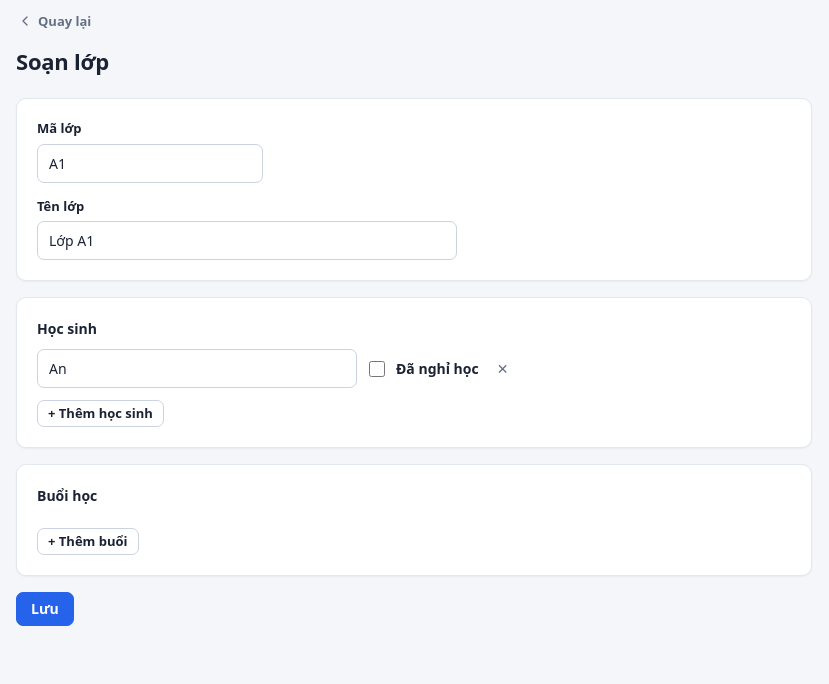
it: ClassEditor › thêm buổi học tạo ô ngày + chọn giờ mới
Step 1. Click the button "+ Thêm buổi" → (88, 542), box x1=37 y1=528 x2=138 y2=555
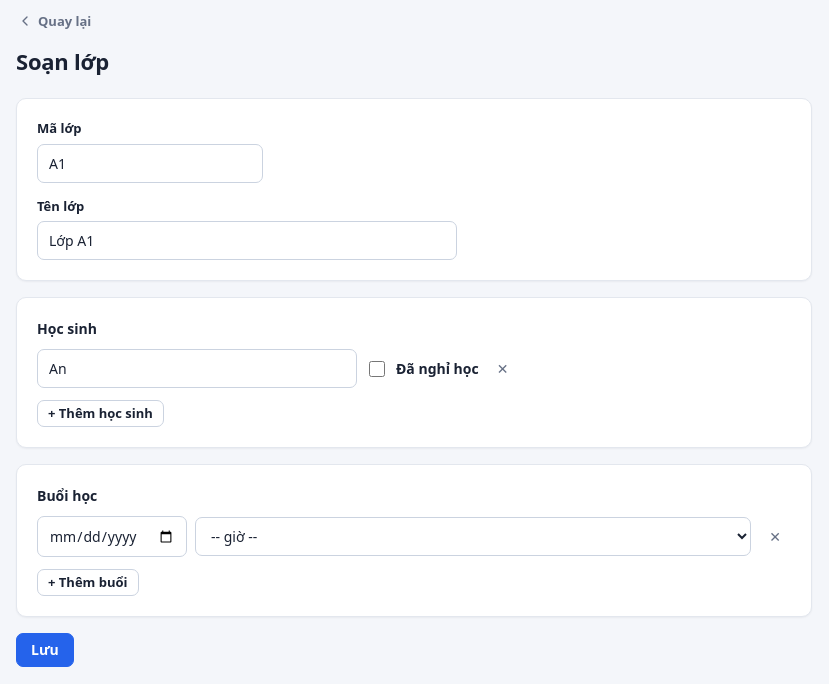
Check: the number of date fields named "ngày buổi" is 1, box x1=37 y1=516 x2=187 y2=557
Check: the number of dropdowns named "giờ buổi" is 1, box x1=195 y1=517 x2=751 y2=556
